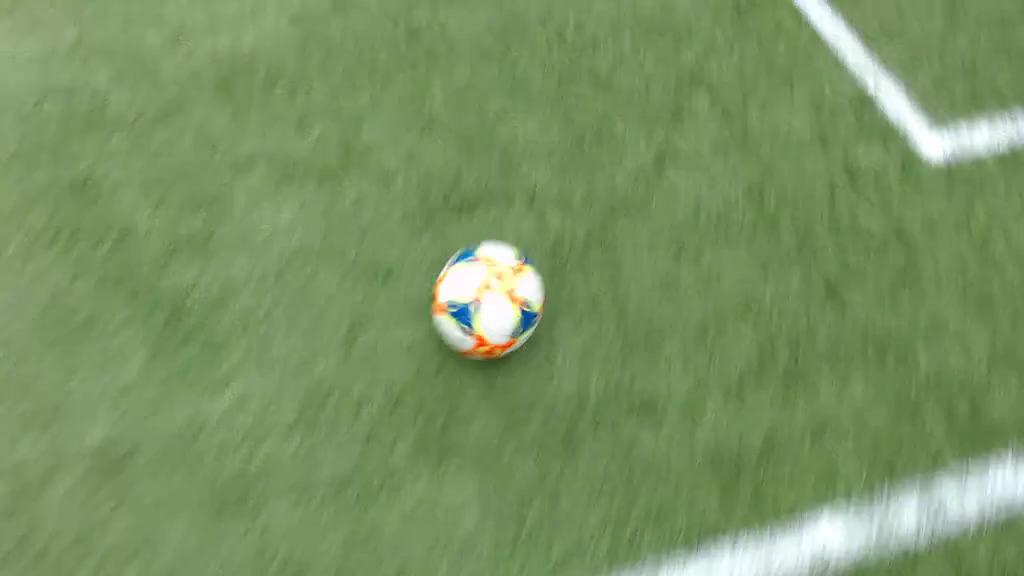ball: (430, 240, 542, 361)
